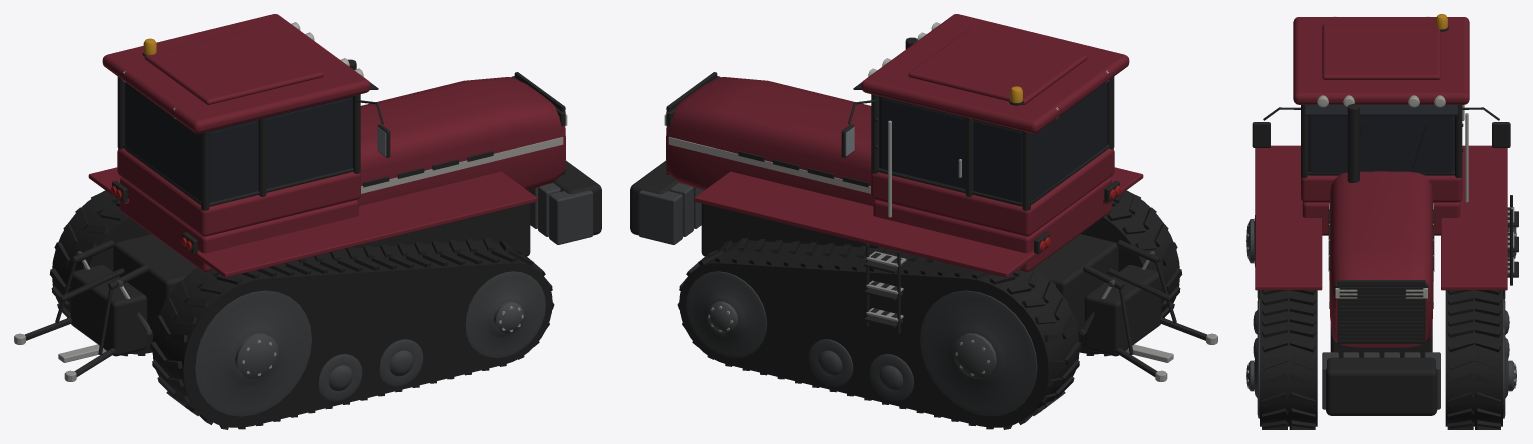
The model's file is SM_Prop_farm_tractortrack_1.glb.
3 renders of one model, left to right at view 1: azimuth 30°, elevation 25°; view 2: azimuth 150°, elevation 25°; view 3: azimuth 270°, elevation 25°, orthographic. The views are drawn at different scales.
Visible parts, largest first — view 1: SM_Prop_farm_tractortrack_1; view 2: SM_Prop_farm_tractortrack_1; view 3: SM_Prop_farm_tractortrack_1.
Boxes of the visible parts, <box> form: SM_Prop_farm_tractortrack_1: <box>14,14,601,429</box>; SM_Prop_farm_tractortrack_1: <box>630,14,1217,429</box>; SM_Prop_farm_tractortrack_1: <box>1246,14,1518,429</box>.
Size of the model in its own units: 6.14 by 3.5 by 2.94.
